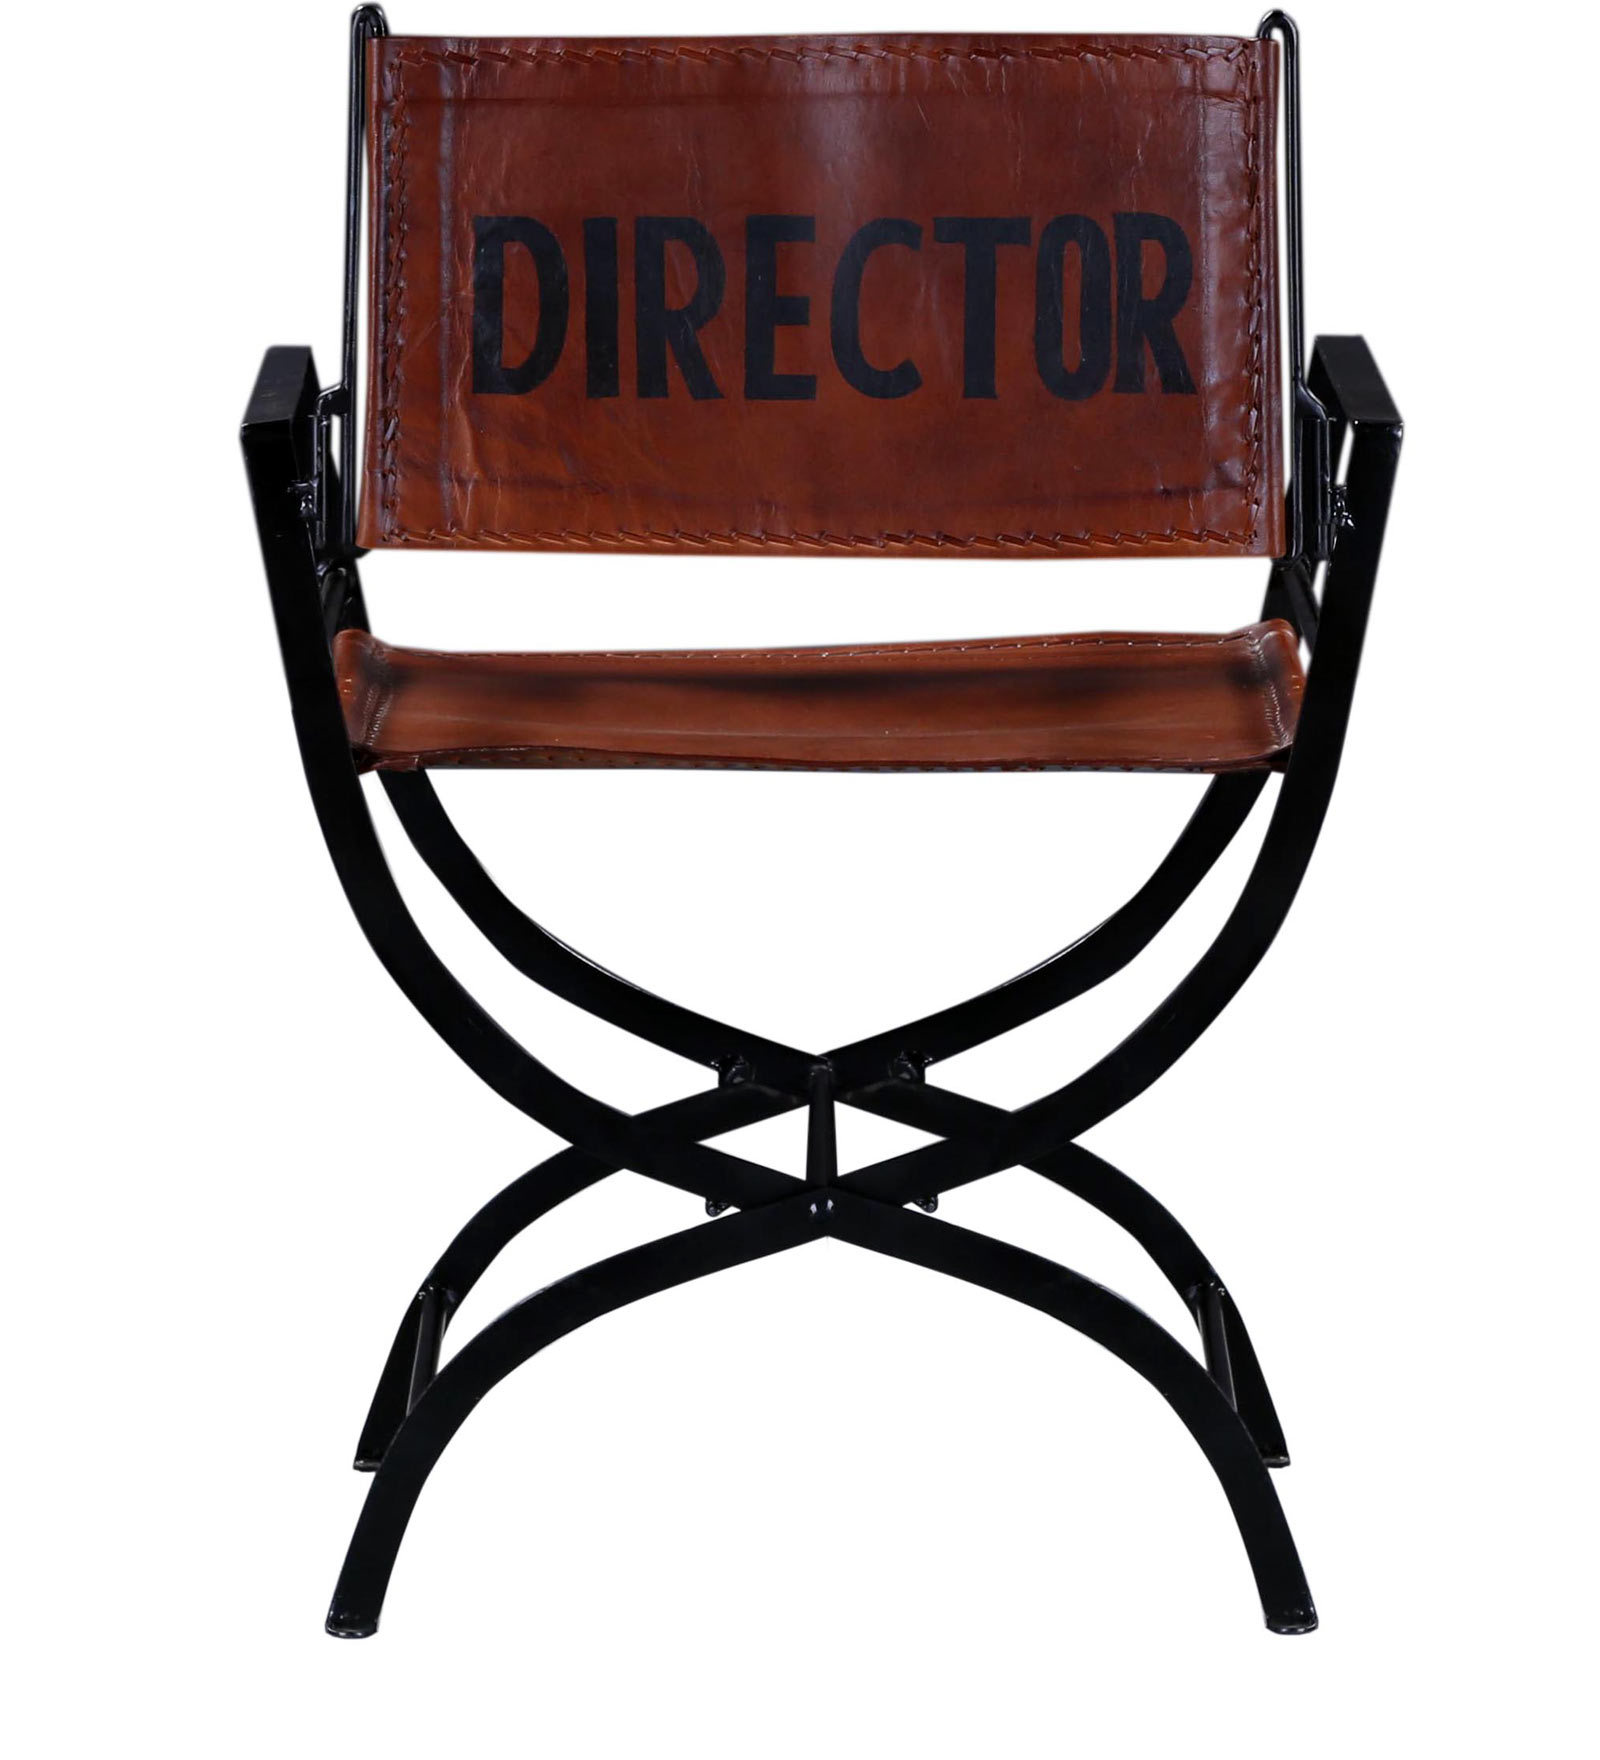Medina Metal & Leather Chair by Bohemiana: (244, 5, 1379, 1643)
